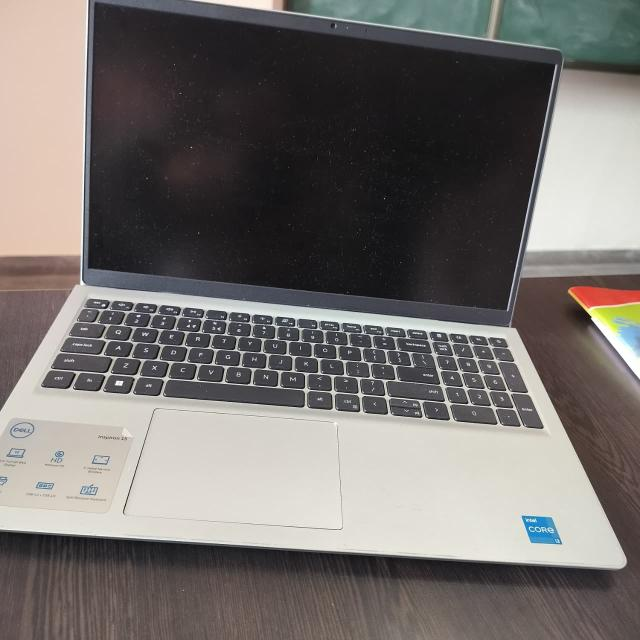laptop: (0, 6, 628, 602)
